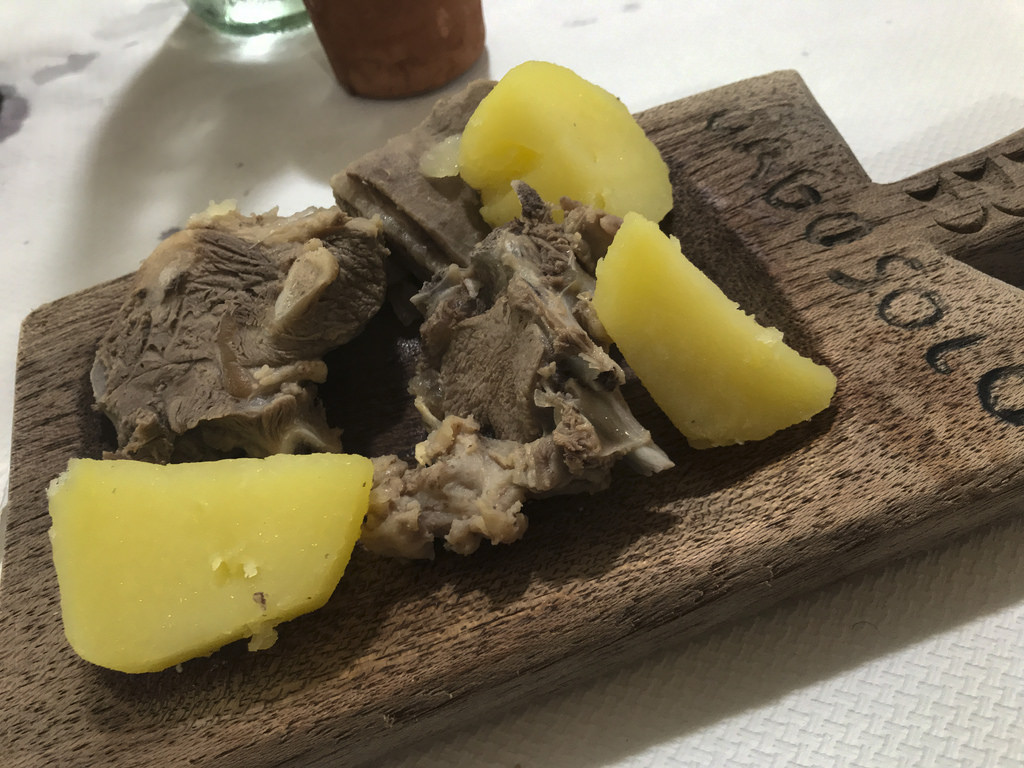boiled potatoes: (32, 463, 386, 650), (601, 212, 834, 473), (465, 84, 670, 248)
